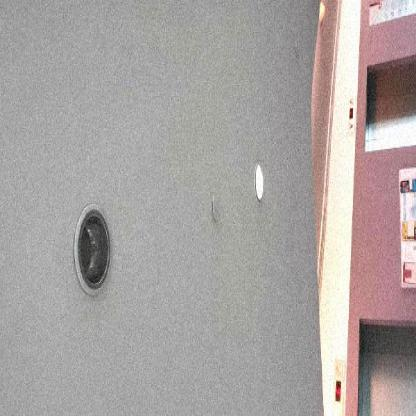light_off: (58, 176, 124, 314)
